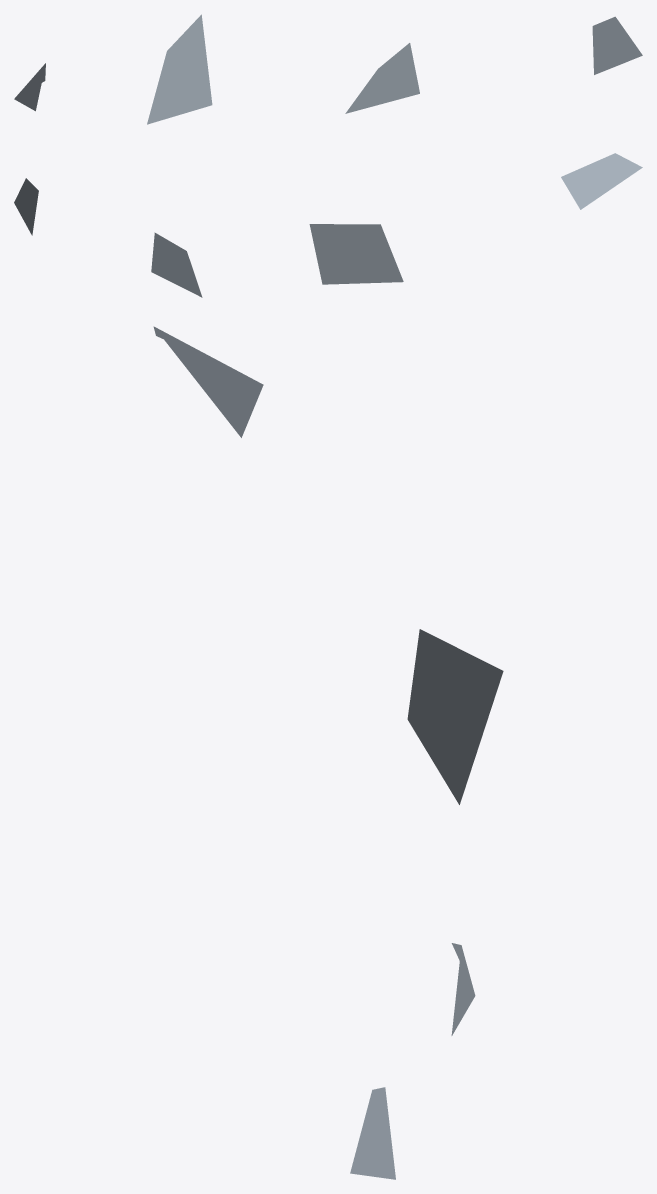
File: interosseous-metacarpal-ligaments-r.glb
The picture shows the model from 3 angles, top to bottom: view 1: azimuth 30°, elevation 25°; view 2: azimuth 150°, elevation 25°; view 3: azimuth 270°, elevation 25°; orthographic projection. The views are drawn at different scales.
Visible parts, largest first — view 1: Interosseous metacarpal ligaments.r; view 2: Interosseous metacarpal ligaments.r; view 3: Interosseous metacarpal ligaments.r.
Boxes of the visible parts, x1,y1,x2,y2 form: Interosseous metacarpal ligaments.r: (14, 14, 642, 124); Interosseous metacarpal ligaments.r: (14, 153, 642, 297); Interosseous metacarpal ligaments.r: (153, 326, 503, 1179).
Bounding box in the file's own units: 0.0356 × 0.00982 × 0.0093.
